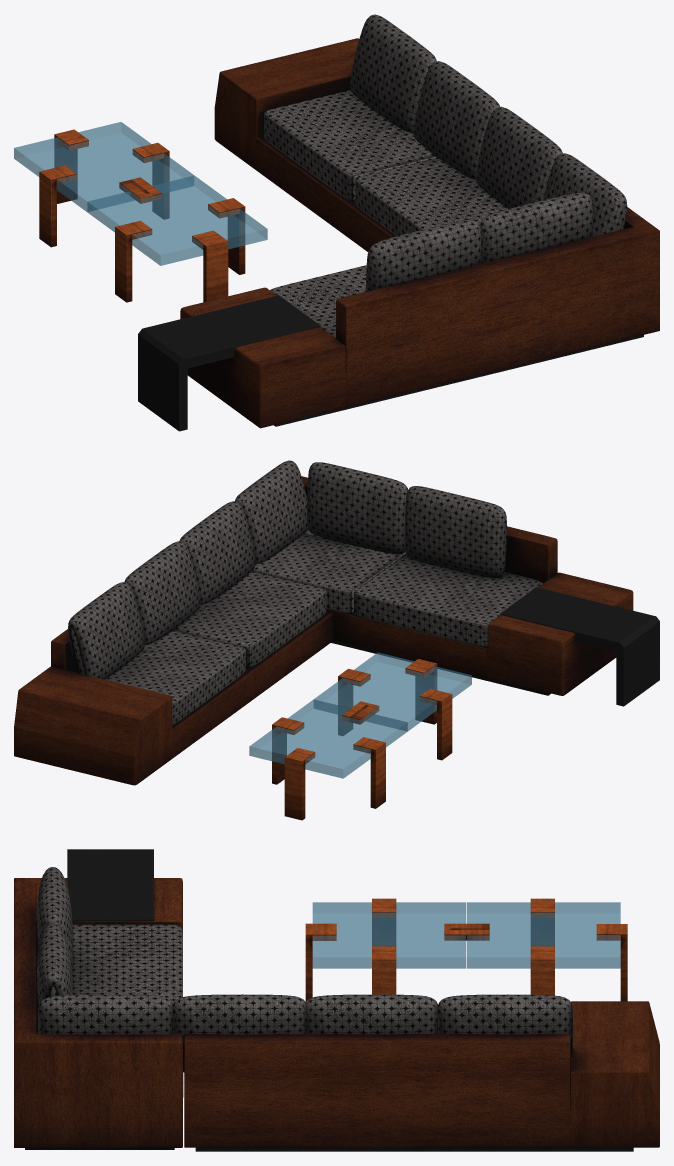
3 views of the same model, one above another, from view 1: azimuth 30°, elevation 25°; view 2: azimuth 150°, elevation 25°; view 3: azimuth 270°, elevation 25° (orthographic). The views are drawn at different scales.
Parts seen in each view (by area): view 1: polySurface11, polySurface10, polySurface6, pCube13, pCube15, pCube14, polySurface12, pCube7, pCube8, pCube9, pCube24, pCube23 (+10 smaller); view 2: polySurface10, polySurface11, polySurface14, polySurface12, pCube13, pCube24, pCube23, polySurface6, pCube14, pCube15, polySurface13, pCube7 (+11 smaller); view 3: polySurface10, polySurface11, pCube15, pCube14, polySurface14, pCube13, pCube10, pCube7, pCube9, pCube8, pCube23, polySurface2 (+8 smaller).
Part boxes in pixels (bbox=[...]): polySurface11: bbox=[180, 207, 659, 428]; polySurface10: bbox=[214, 38, 395, 251]; polySurface6: bbox=[264, 90, 436, 200]; pCube13: bbox=[138, 295, 320, 431]; pCube15: bbox=[87, 175, 267, 265]; pCube14: bbox=[14, 122, 194, 211]; polySurface12: bbox=[355, 158, 507, 236]; pCube7: bbox=[350, 14, 436, 133]; pCube8: bbox=[414, 61, 499, 179]; pCube9: bbox=[476, 106, 562, 208]; pCube24: bbox=[365, 219, 481, 291]; pCube23: bbox=[480, 192, 593, 263]; polySurface10: bbox=[14, 611, 333, 785]; polySurface11: bbox=[301, 476, 633, 695]; polySurface14: bbox=[354, 554, 543, 646]; polySurface12: bbox=[175, 571, 326, 667]; pCube13: bbox=[500, 587, 659, 706]; pCube24: bbox=[404, 486, 506, 577]; pCube23: bbox=[307, 462, 407, 554]; polySurface6: bbox=[105, 630, 245, 725]; pCube14: bbox=[249, 699, 407, 778]; pCube15: bbox=[314, 652, 471, 731]; polySurface13: bbox=[253, 530, 406, 613]; pCube7: bbox=[68, 582, 144, 679]; polySurface10: bbox=[184, 1001, 659, 1147]; polySurface11: bbox=[14, 878, 182, 1147]; pCube15: bbox=[312, 902, 466, 968]; pCube14: bbox=[467, 902, 620, 968]; polySurface14: bbox=[38, 924, 182, 1011]; pCube13: bbox=[67, 849, 153, 921]; pCube10: bbox=[38, 994, 173, 1034]; pCube7: bbox=[438, 994, 572, 1067]; pCube9: bbox=[173, 994, 305, 1072]; pCube8: bbox=[305, 994, 437, 1034]; pCube23: bbox=[37, 924, 73, 1007]; polySurface2: bbox=[195, 1147, 633, 1151].
Size of what is drawn, in the model's own units: 0.7134 by 0.2201 by 0.8331.
Materials: 8 (8 with a texture image).
